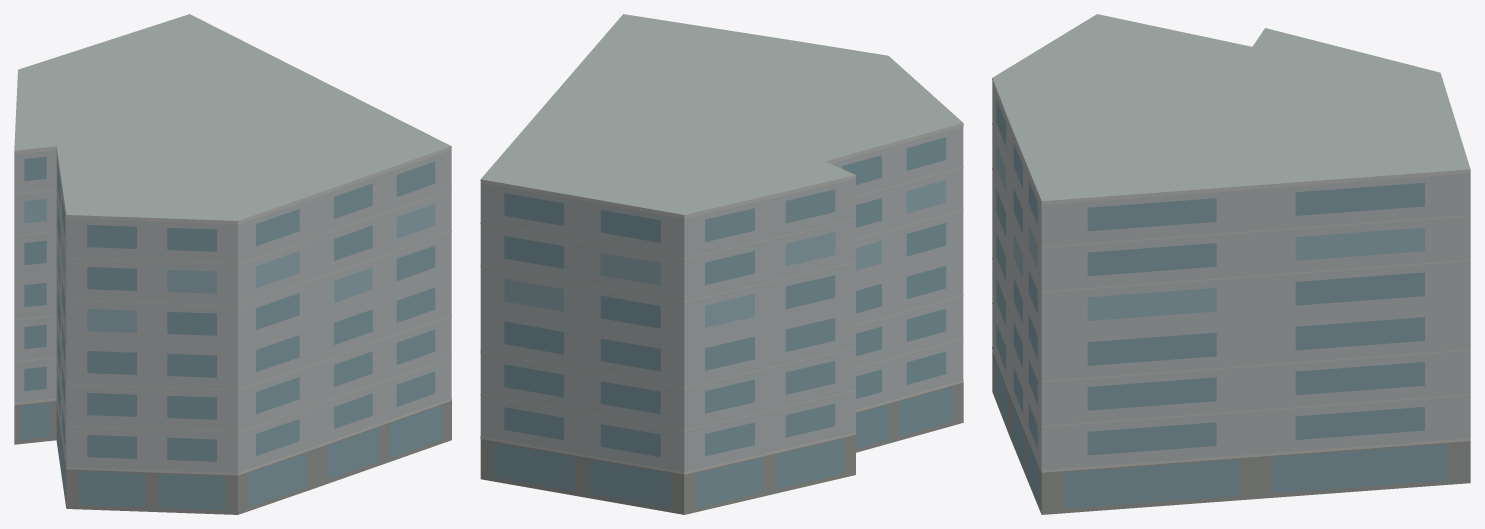
Rendered from survey-upis-32948549.glb.
3 views of the same model, side by side, from view 1: azimuth 30°, elevation 25°; view 2: azimuth 150°, elevation 25°; view 3: azimuth 270°, elevation 25° (orthographic). The views are drawn at different scales.
Parts seen in each view (by area): view 1: survey-upis-32948549.tmp; view 2: survey-upis-32948549.tmp; view 3: survey-upis-32948549.tmp.
Boxes of the visible parts, x1,y1,x2,y2 form: survey-upis-32948549.tmp: (14, 14, 451, 514); survey-upis-32948549.tmp: (480, 14, 963, 514); survey-upis-32948549.tmp: (992, 14, 1470, 514).
Size of the model in its own units: 24.59 by 19.2 by 26.56.
